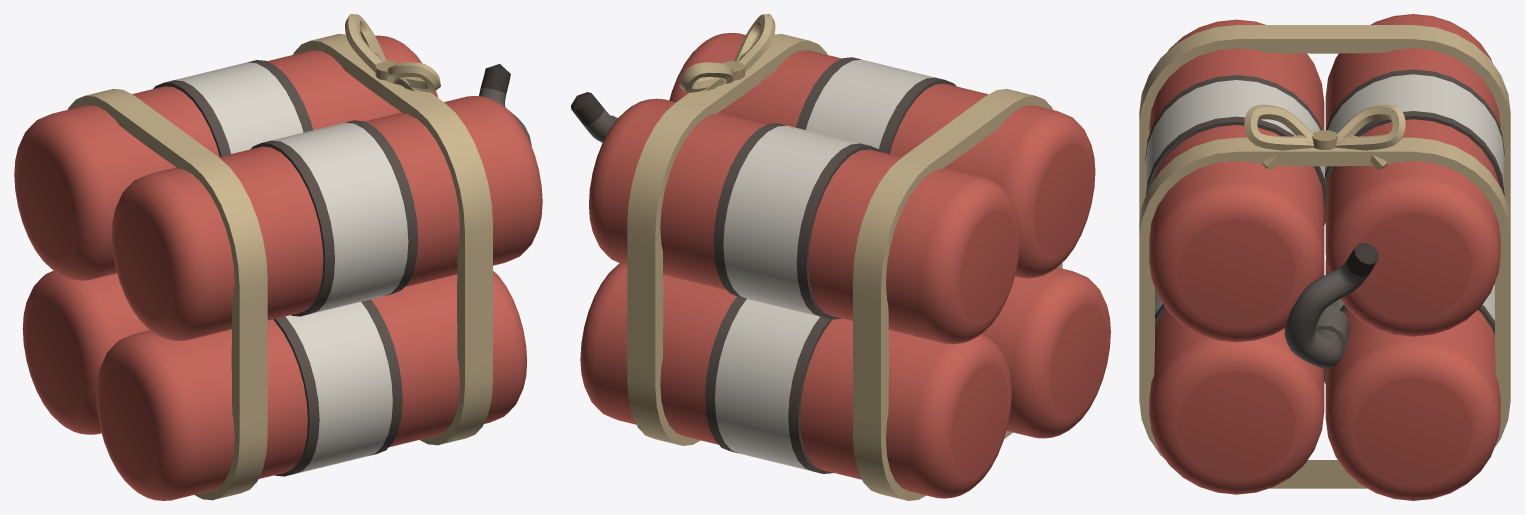
The model's file is dynamite_c_bundle_red.glb.
3 views of the same model, side by side, from view 1: azimuth 30°, elevation 25°; view 2: azimuth 150°, elevation 25°; view 3: azimuth 270°, elevation 25° (orthographic). The views are drawn at different scales.
Parts seen in each view (by area): view 1: Dynamite; view 2: Dynamite; view 3: Dynamite.
Boxes of the visible parts, box(x1,y1,x2,y2) form: Dynamite: box(14, 14, 542, 500); Dynamite: box(571, 14, 1110, 500); Dynamite: box(1139, 14, 1510, 500).
Bounding box in the file's own units: 0.6288 × 0.4946 × 0.446.
